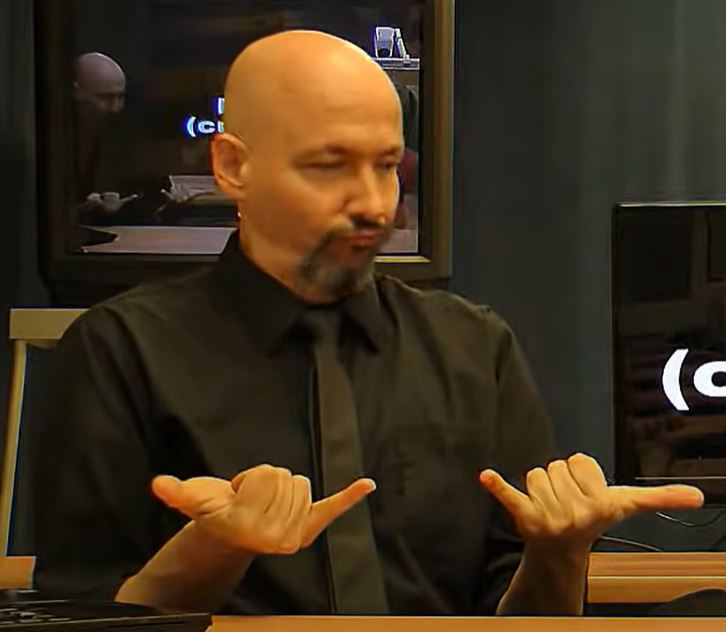Now: (125, 429, 718, 592)
